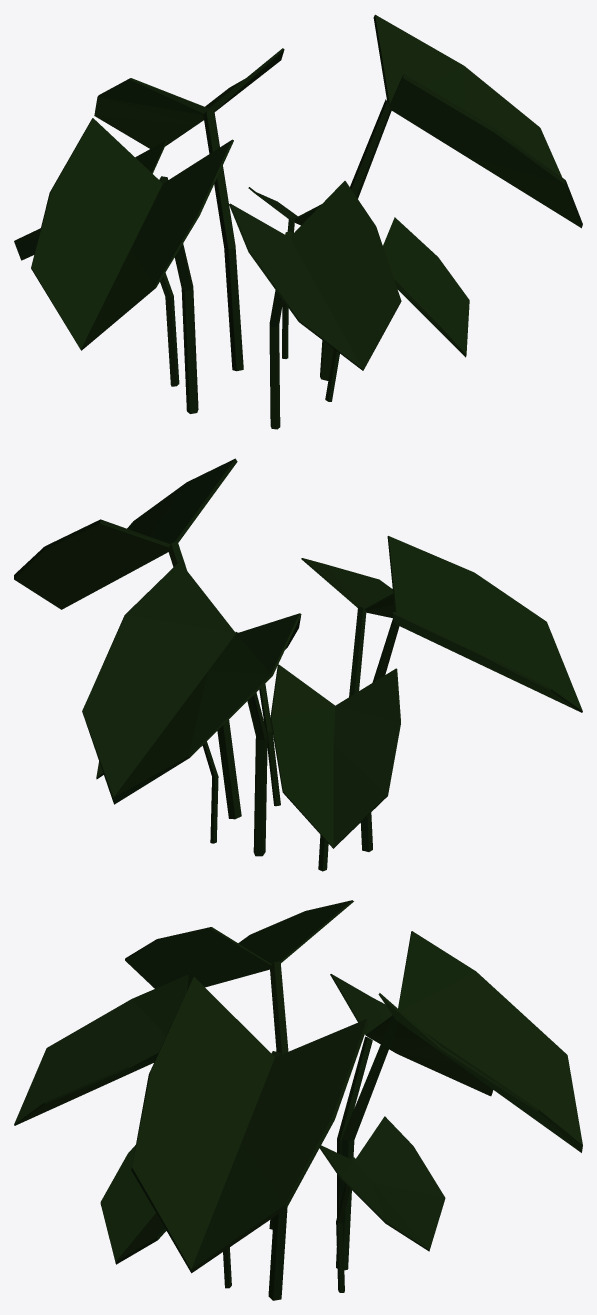
The model's file is Anthurium.obj.
3 renders of one model, top to bottom at view 1: azimuth 30°, elevation 25°; view 2: azimuth 150°, elevation 25°; view 3: azimuth 270°, elevation 25°, orthographic. The views are drawn at different scales.
Visible parts, largest first — view 1: Anthurium_Plane.004; view 2: Anthurium_Plane.004; view 3: Anthurium_Plane.004.
Part boxes in pixels (x1,y1,x2,y2): Anthurium_Plane.004: (14, 14, 582, 429); Anthurium_Plane.004: (14, 458, 582, 871); Anthurium_Plane.004: (14, 900, 582, 1300).
Bounding box in the file's own units: 2.32 × 1.37 × 2.07.
